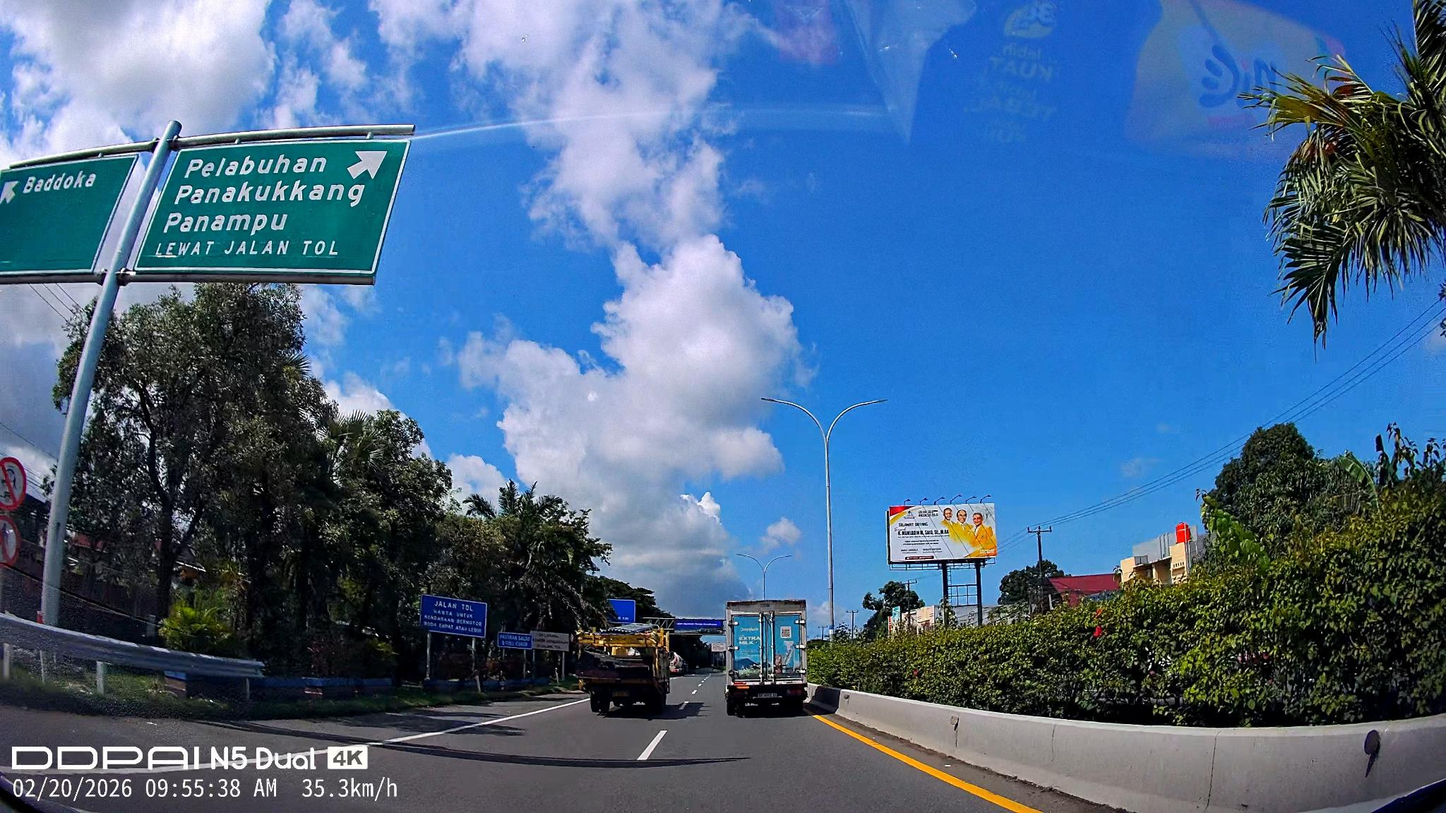rambu_teks: (131, 136, 413, 277)
